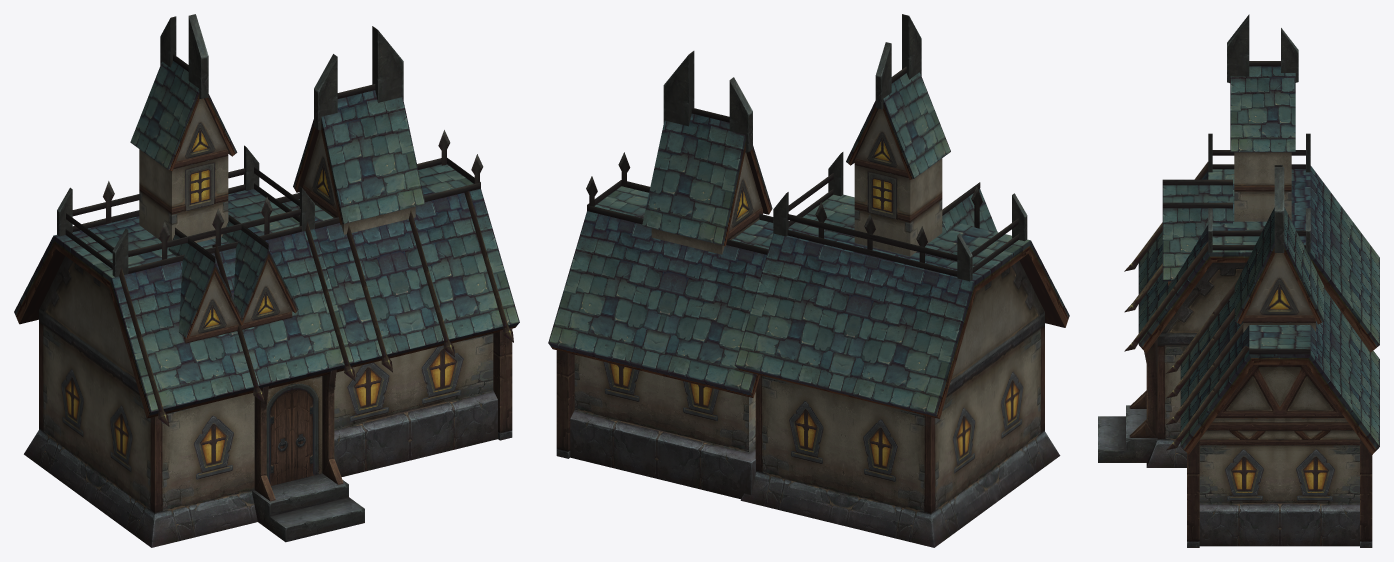
The model's file is building_underground_minfang01.FBX.
3 views of the same model, side by side, from view 1: azimuth 30°, elevation 25°; view 2: azimuth 150°, elevation 25°; view 3: azimuth 270°, elevation 25° (orthographic). The views are drawn at different scales.
Visible parts, largest first — view 1: building_underground_minfang01; view 2: building_underground_minfang01; view 3: building_underground_minfang01.
Boxes of the visible parts, bbox=[...] form: building_underground_minfang01: bbox=[14, 14, 519, 547]; building_underground_minfang01: bbox=[548, 14, 1069, 547]; building_underground_minfang01: bbox=[1098, 14, 1379, 547].
Size of the model in its own units: 12.6 by 14.2 by 8.85.
